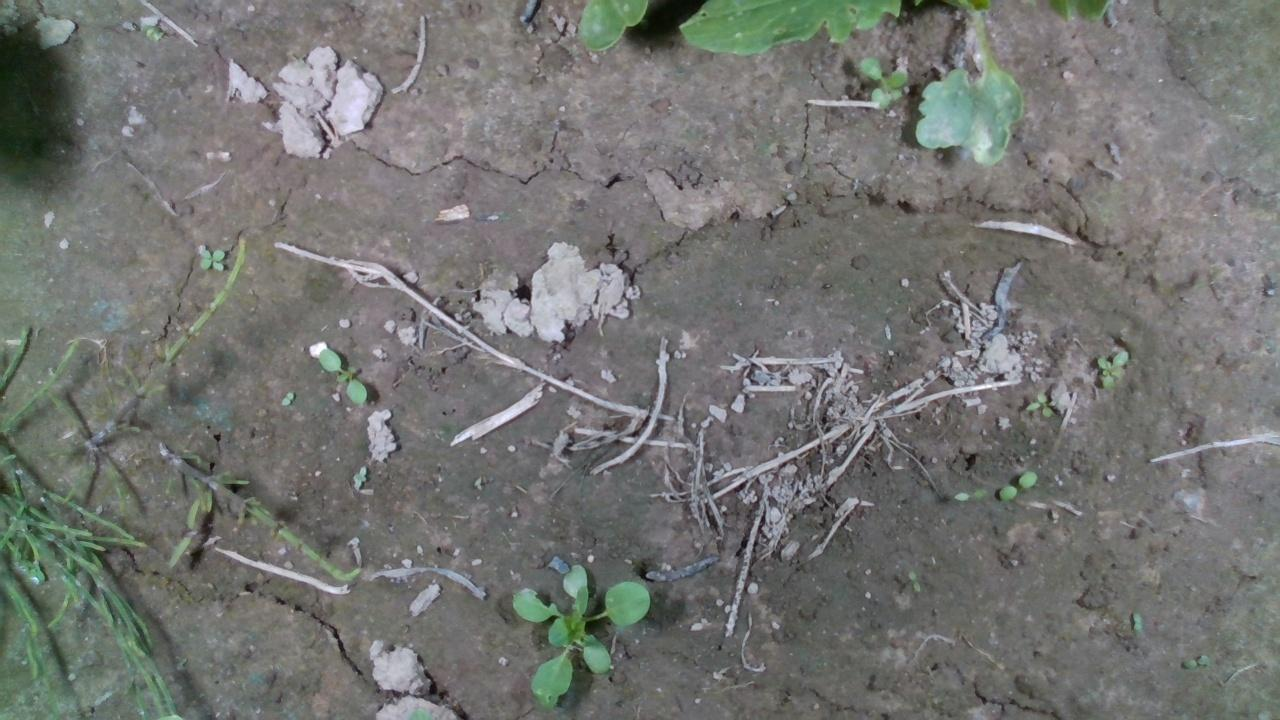weed: (314, 346, 368, 404), (857, 54, 910, 108), (994, 468, 1036, 501), (1094, 349, 1129, 388), (1022, 390, 1056, 417), (197, 245, 227, 271)
